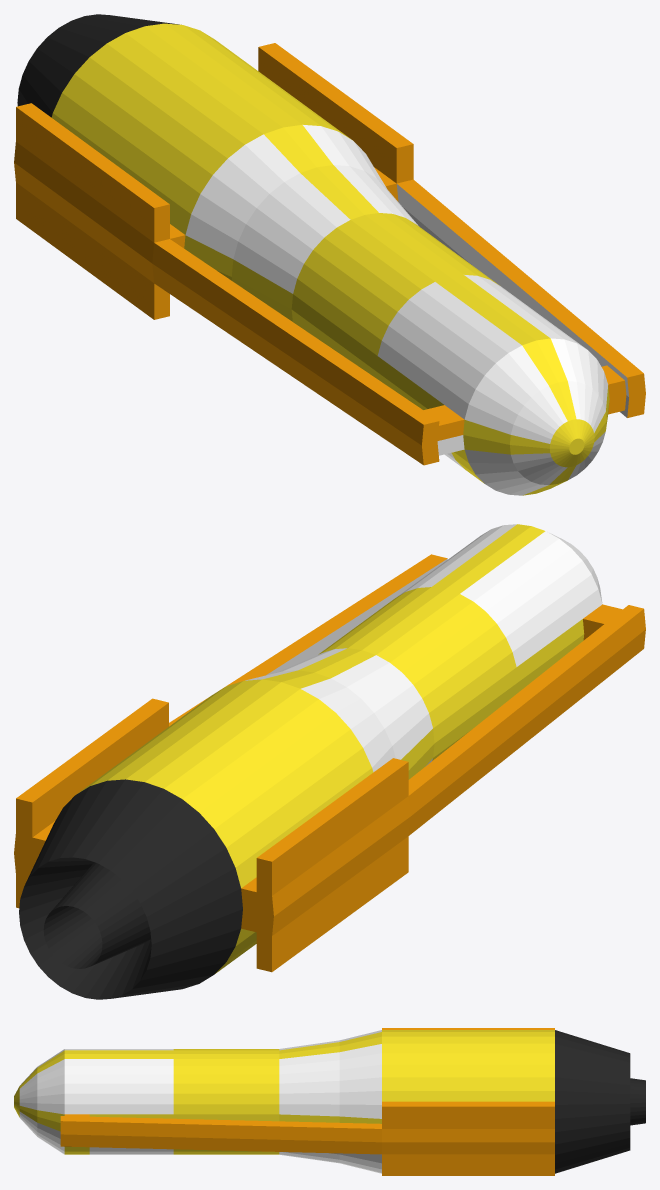
Rendered from Rocket7.fbx.
3 renders of one model, top to bottom at view 1: azimuth 30°, elevation 25°; view 2: azimuth 150°, elevation 25°; view 3: azimuth 270°, elevation 25°, orthographic. The views are drawn at different scales.
Parts seen in each view (by area): view 1: Cylinder.002; view 2: Cylinder.002; view 3: Cylinder.002.
Boxes of the visible parts, x1,y1,x2,y2 form: Cylinder.002: (14,14,645,495); Cylinder.002: (14,524,645,999); Cylinder.002: (14,1028,645,1175).
Size of the model in its own units: 0.6134 by 0.4639 by 2.04.
